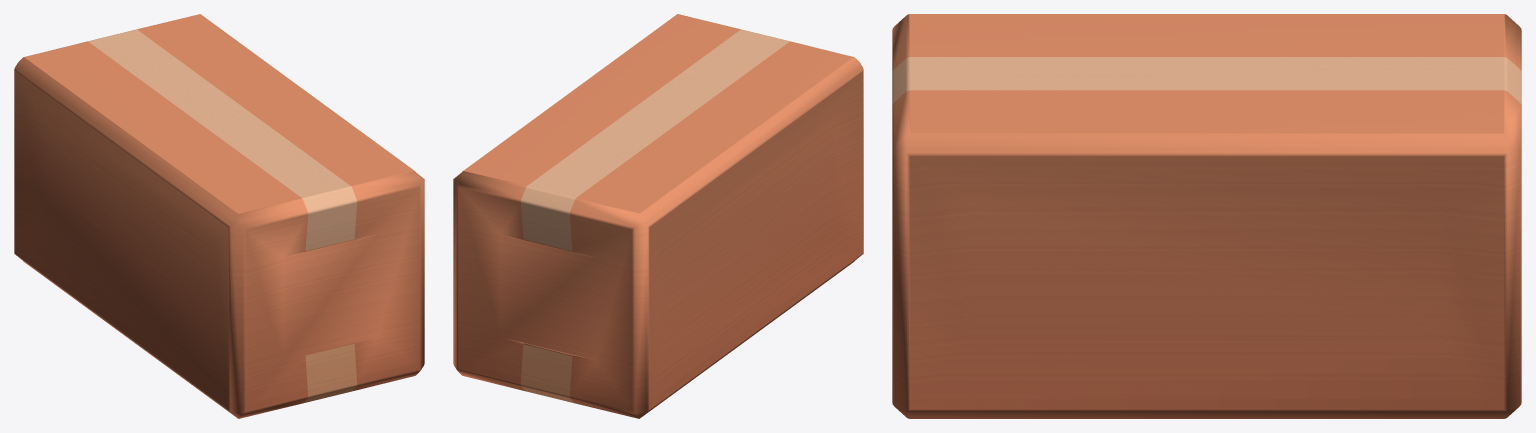
File: box-large.glb
3 views of the same model, side by side, from view 1: azimuth 30°, elevation 25°; view 2: azimuth 150°, elevation 25°; view 3: azimuth 270°, elevation 25° (orthographic). The views are drawn at different scales.
Visible parts, largest first — view 1: box-large; view 2: box-large; view 3: box-large.
Part boxes in pixels (<box>): box-large: <box>14,14,424,418</box>; box-large: <box>453,14,863,418</box>; box-large: <box>892,14,1521,418</box>.
Bounding box in the file's own units: 0.249 × 0.25 × 0.4995.
1 material, 1 textured.
